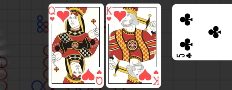4C: (176, 52, 194, 60)
9H: (96, 69, 104, 87)
